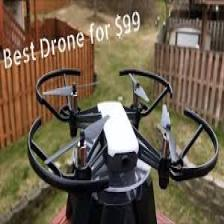drone: (28, 66, 219, 188)
